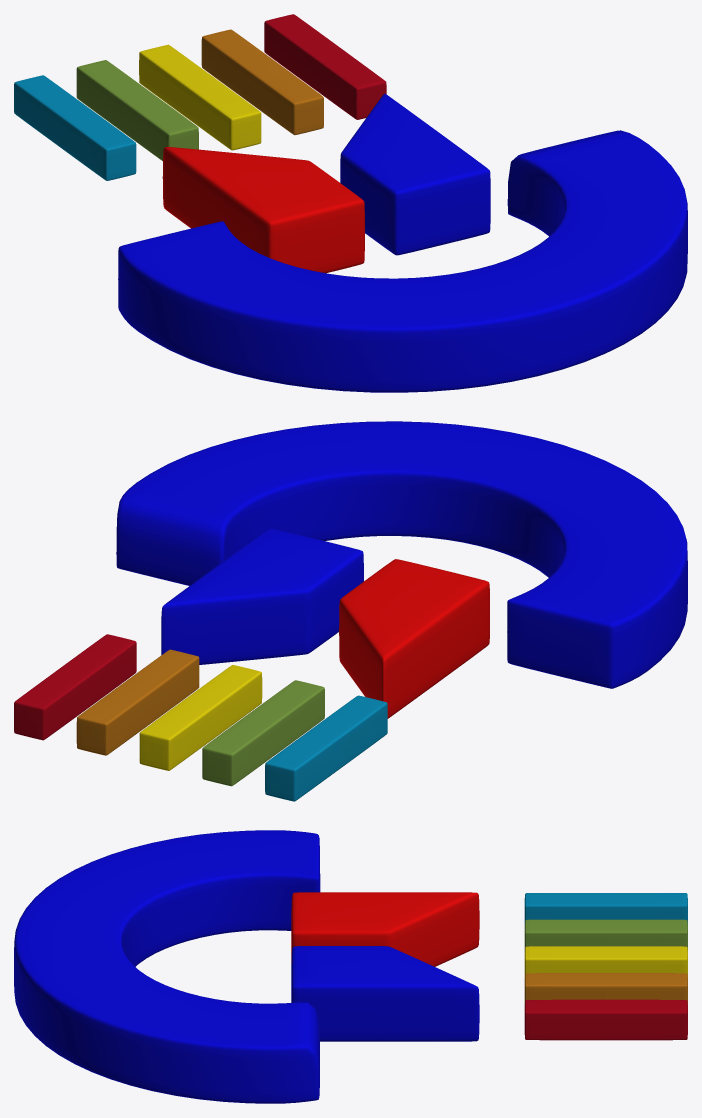
3 views of the same model, one above another, from view 1: azimuth 30°, elevation 25°; view 2: azimuth 150°, elevation 25°; view 3: azimuth 270°, elevation 25° (orthographic). The views are drawn at different scales.
Visible parts, largest first — view 1: Cube; view 2: Cube; view 3: Cube.
Boxes of the visible parts, <box> form: Cube: <box>14,14,687,392</box>; Cube: <box>14,421,687,801</box>; Cube: <box>14,830,687,1103</box>.
Size of the model in its own units: 16272 by 1998 by 21136.
